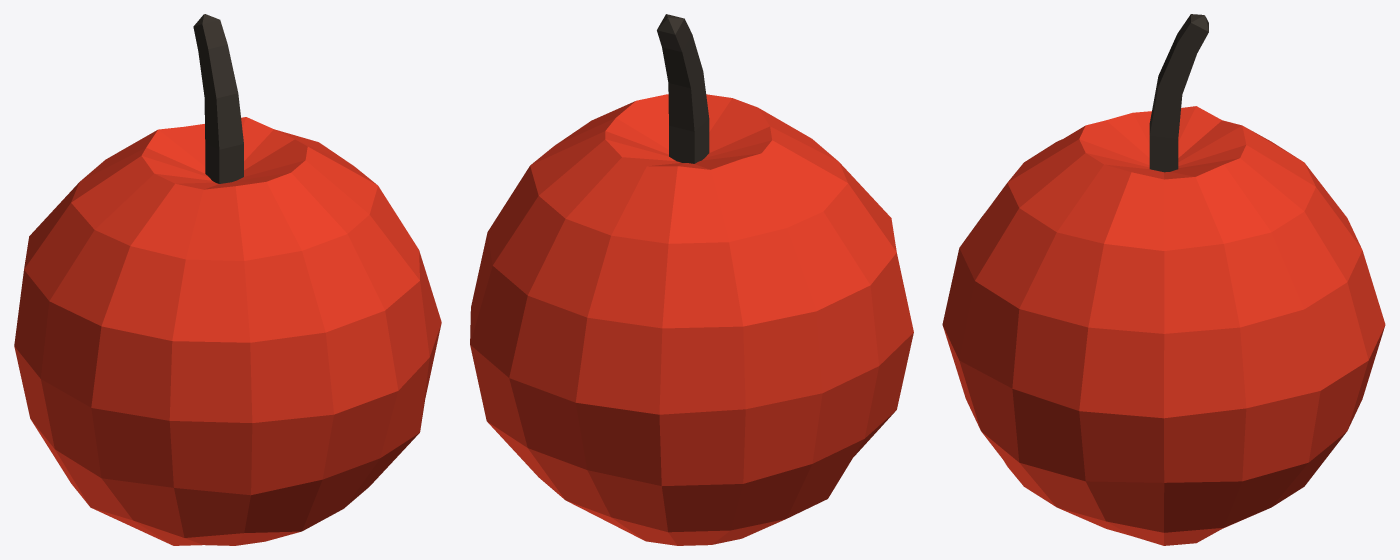
The model's file is Apple.fbx.
3 views of the same model, side by side, from view 1: azimuth 30°, elevation 25°; view 2: azimuth 150°, elevation 25°; view 3: azimuth 270°, elevation 25° (orthographic). The views are drawn at different scales.
Visible parts, largest first — view 1: Sphere; view 2: Sphere; view 3: Sphere.
Boxes of the visible parts, x1,y1,x2,y2 form: Sphere: (14, 14, 441, 545); Sphere: (470, 14, 913, 545); Sphere: (942, 14, 1385, 545).
Size of the model in its own units: 197 by 246 by 200.
